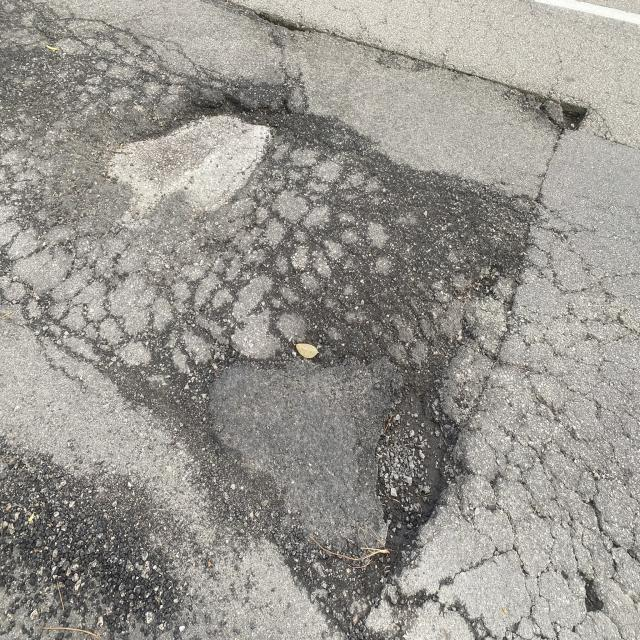Pothole: (332, 339, 482, 591), (130, 67, 331, 183), (487, 72, 618, 158)
